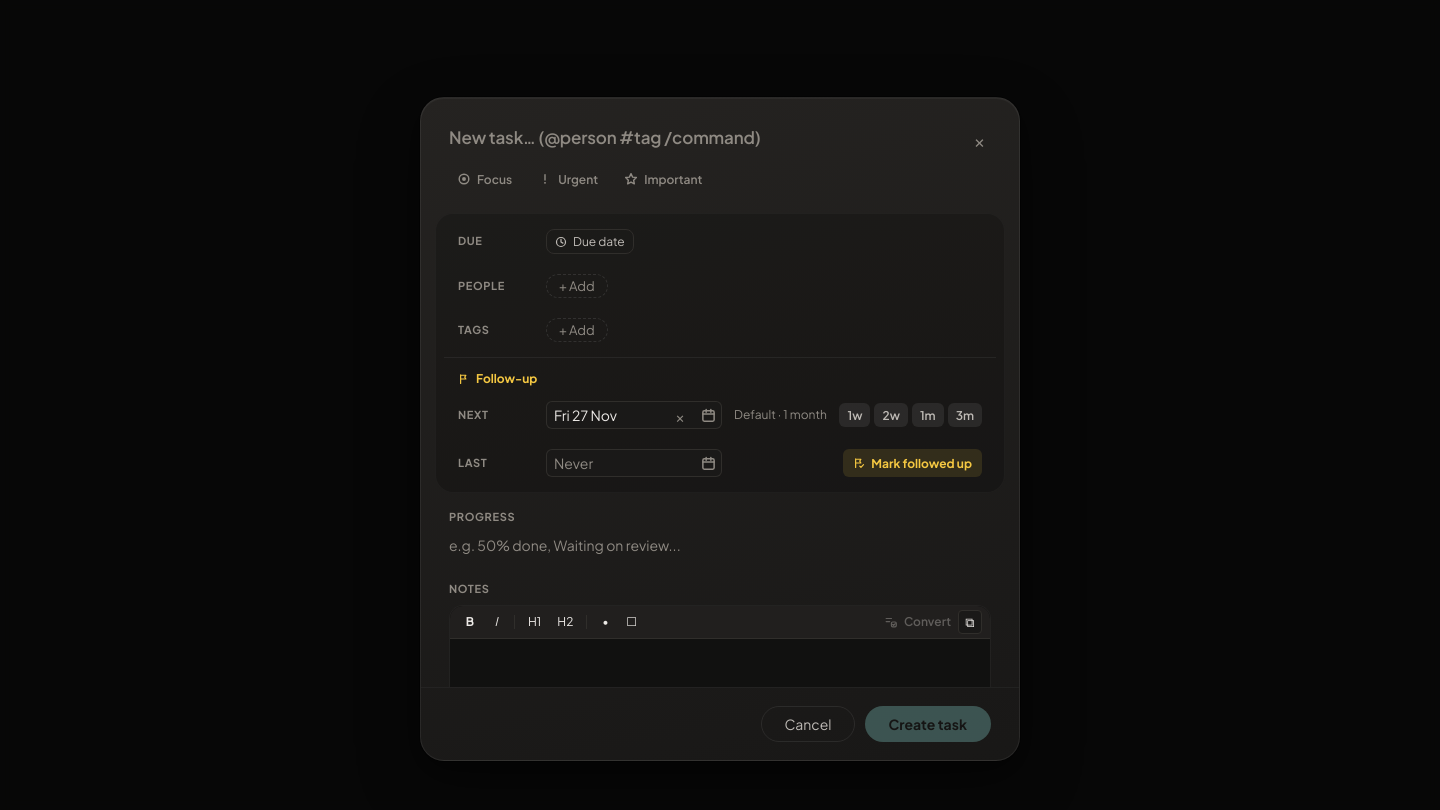
Test case: task title autocomplete — tags › accept › clicking a tag row completes the token to `#<name> ` and closes popover
Type "#ur" into the field with placeholder "New task… (@person #tag /command)".
click(703, 138); type("#ur")  # box [449,126,956,150]
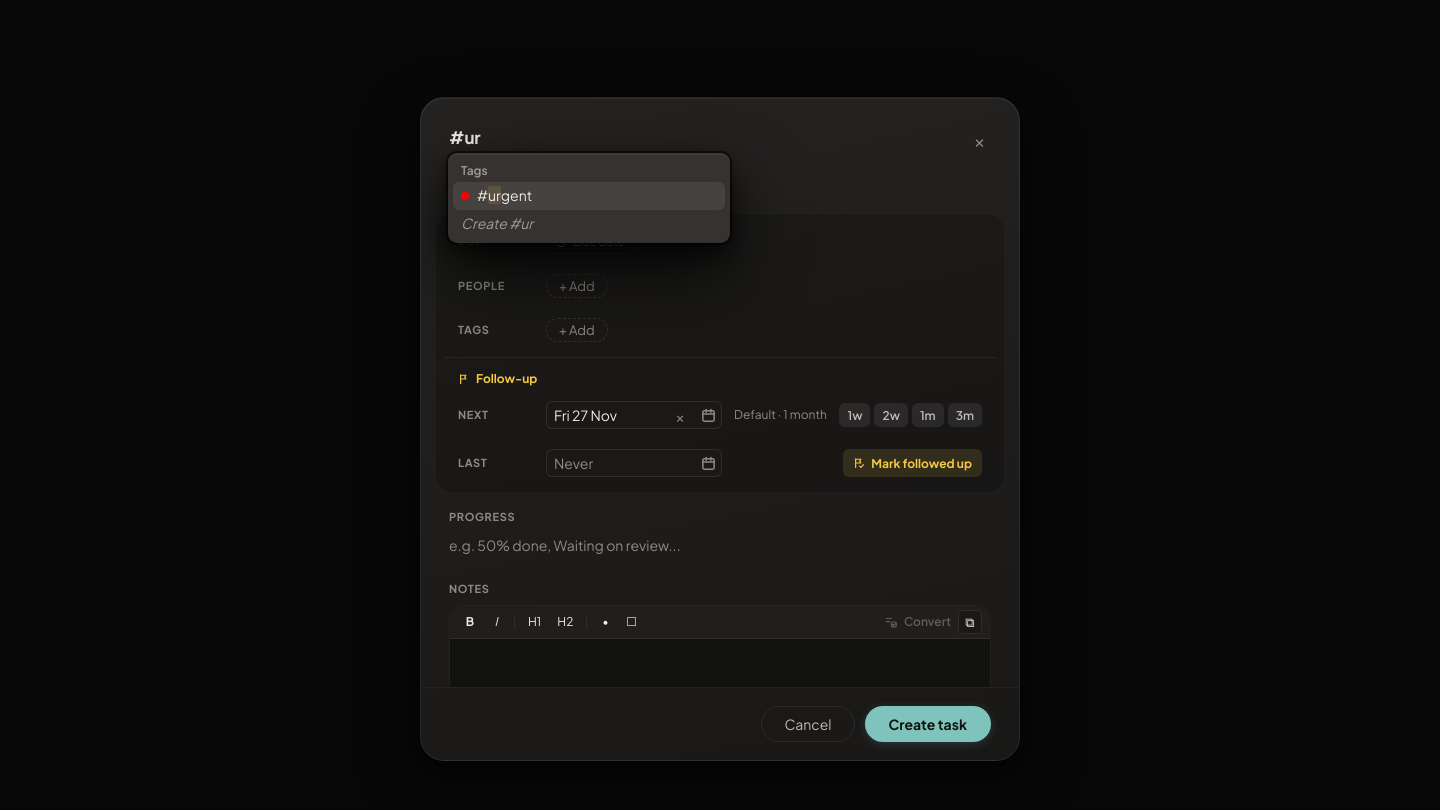
Press the mouse on the option "#urgent" at (516, 195), box [453,182,725,210]
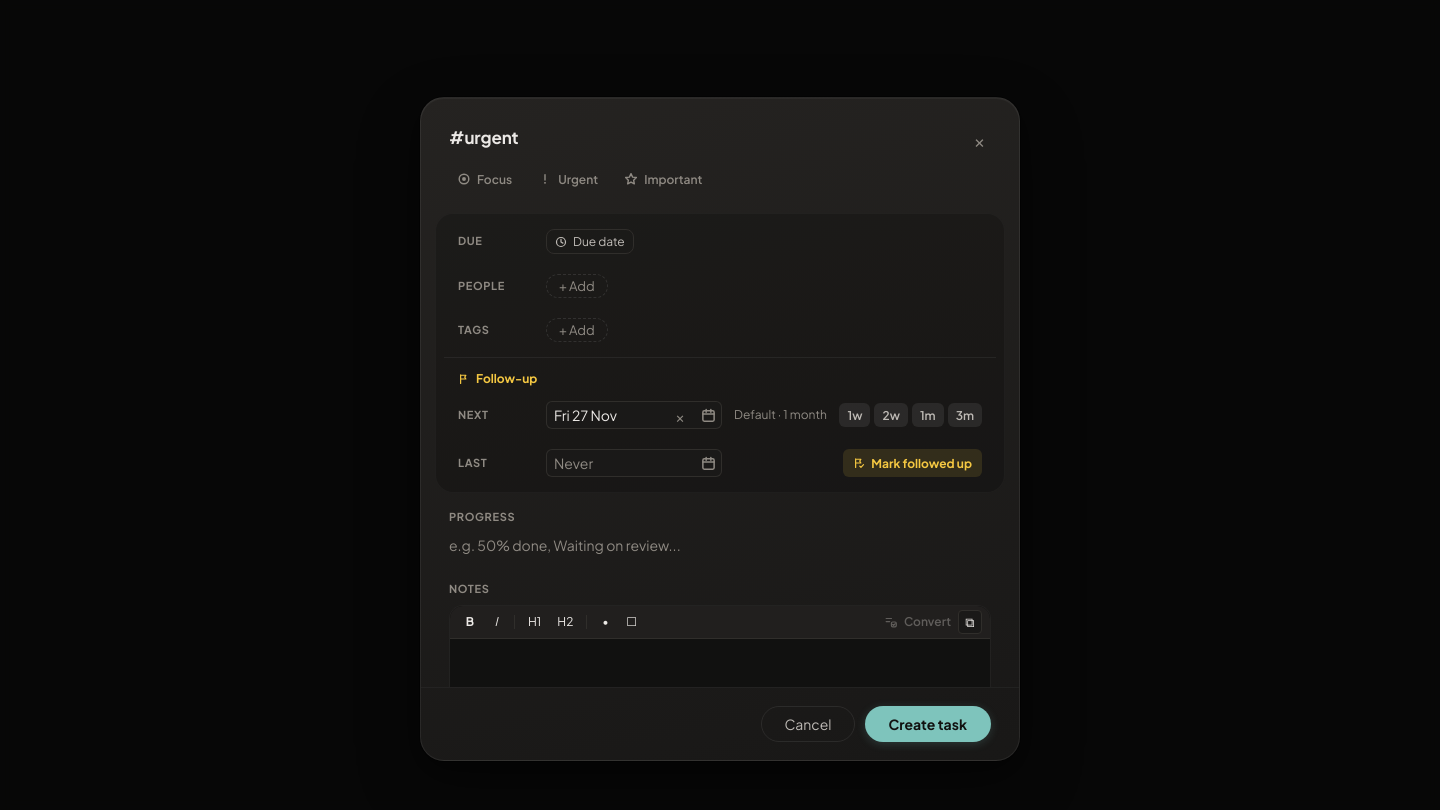
Now the 1st field with placeholder "New task… (@person #tag /command)" holds "#urgent ", box [449,126,956,150]
